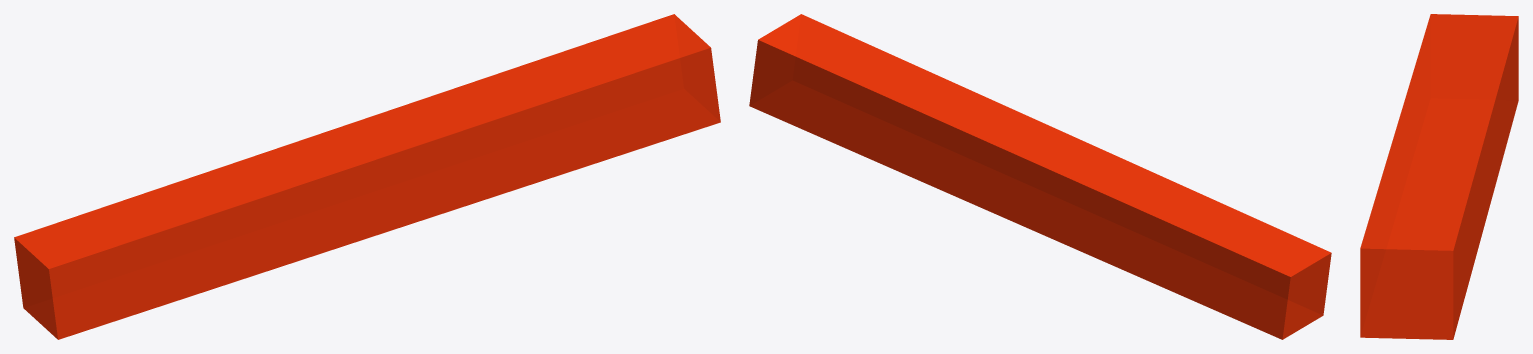
The model's file is Event_421127236_EErechit_35.fbx.
3 views of the same model, side by side, from view 1: azimuth 30°, elevation 25°; view 2: azimuth 150°, elevation 25°; view 3: azimuth 270°, elevation 25° (orthographic). The views are drawn at different scales.
Visible parts, largest first — view 1: Model; view 2: Model; view 3: Model.
Part boxes in pixels (bbox=[...]): Model: bbox=[14, 14, 720, 339]; Model: bbox=[749, 14, 1331, 339]; Model: bbox=[1360, 14, 1518, 339].
Size of the model in its own units: 0.6656 by 0.163 by 0.1301.
